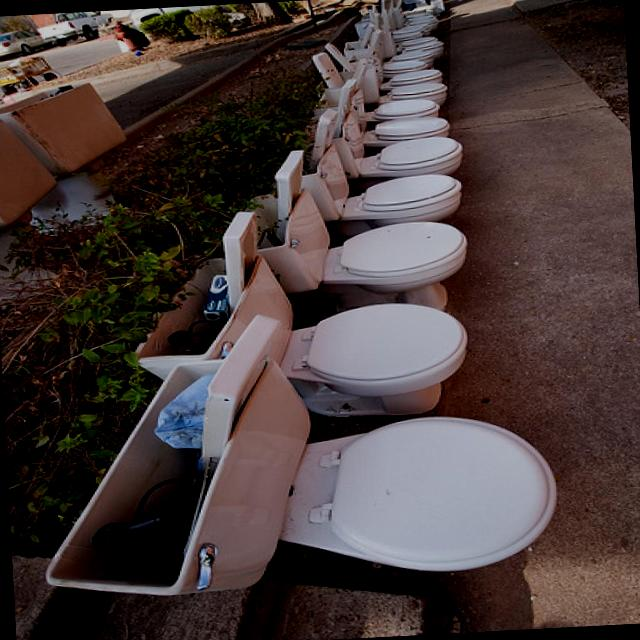Vehicle: (126, 1, 296, 34), (34, 10, 118, 48), (0, 28, 70, 60)
